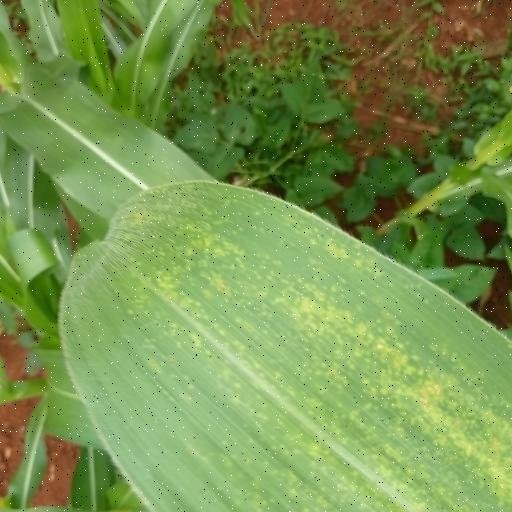Corn_Brown_Spots: (71, 174, 512, 512)
